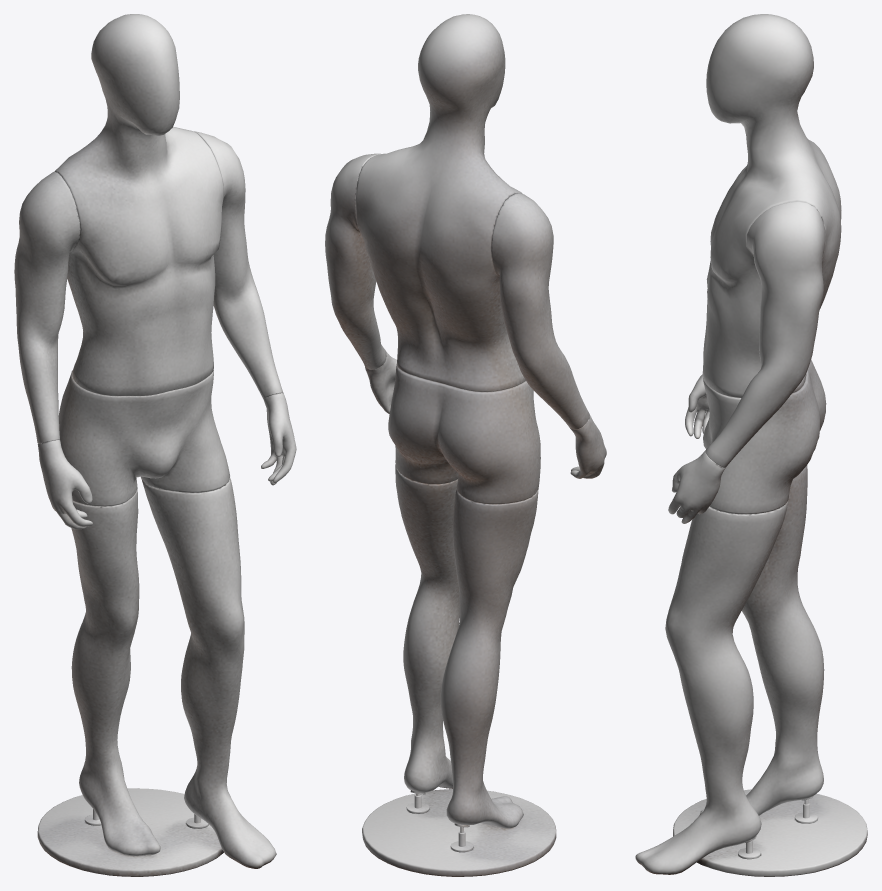
Rendered from Mannequin_FullMannequin1_0.7x1.8x0.7.glb.
3 renders of one model, left to right at view 1: azimuth 30°, elevation 25°; view 2: azimuth 150°, elevation 25°; view 3: azimuth 270°, elevation 25°, orthographic.
Parts seen in each view (by area): view 1: Men_mannequin_Baked; view 2: Men_mannequin_Baked; view 3: Men_mannequin_Baked.
Part boxes in pixels (bbox=[...]): Men_mannequin_Baked: bbox=[14, 14, 296, 876]; Men_mannequin_Baked: bbox=[325, 14, 606, 876]; Men_mannequin_Baked: bbox=[635, 14, 867, 876].
Bounding box in the file's own units: 0.5338 × 1.77 × 0.4557.
Materials: 1 (1 with a texture image).
